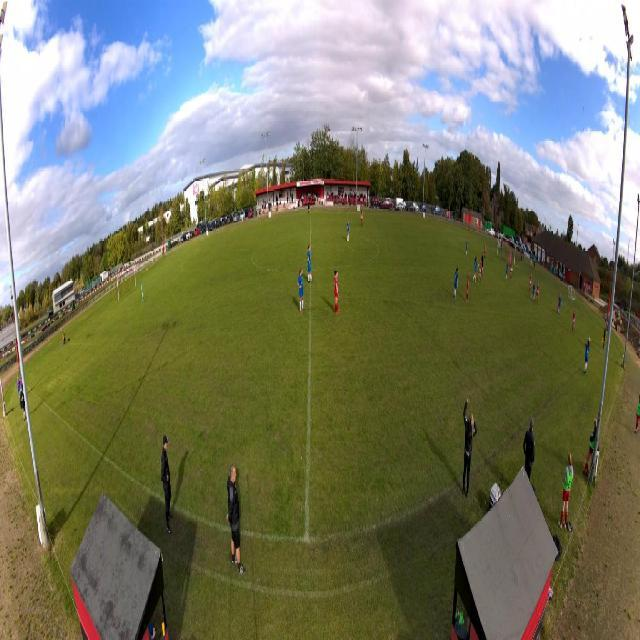player: (297, 266, 304, 315), (333, 268, 339, 316), (307, 244, 314, 284), (453, 266, 459, 300), (465, 270, 471, 304), (477, 258, 483, 285), (473, 256, 478, 283), (571, 308, 576, 334), (530, 281, 536, 302), (535, 281, 540, 306), (346, 219, 350, 243), (505, 260, 509, 284), (141, 280, 145, 304), (509, 259, 513, 281), (558, 294, 562, 315), (557, 292, 561, 313), (528, 274, 532, 294), (481, 252, 484, 277), (360, 209, 364, 227), (466, 237, 469, 257), (484, 243, 487, 261), (509, 252, 512, 268)
